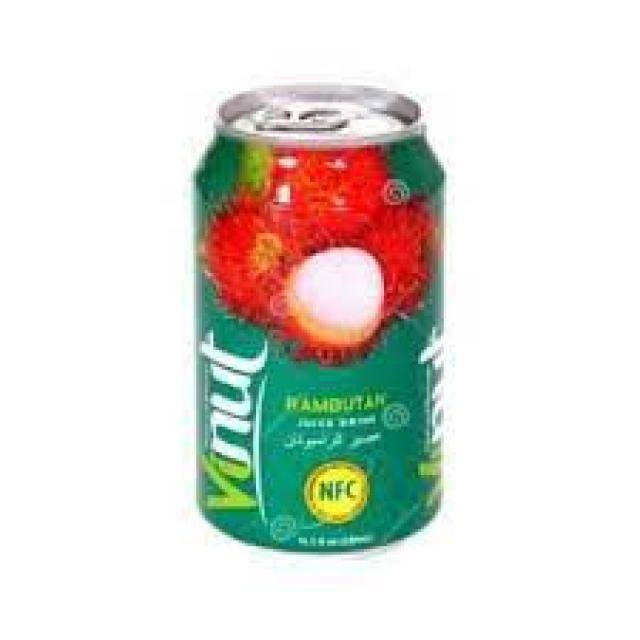Cans: (182, 71, 461, 563)
